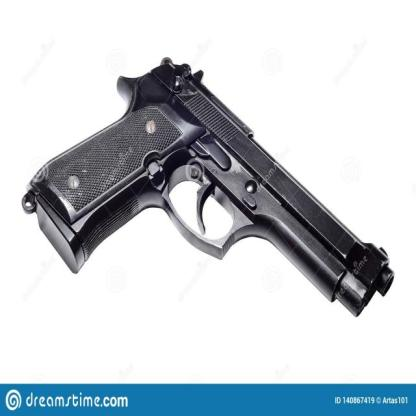handgun: (19, 54, 395, 317)
